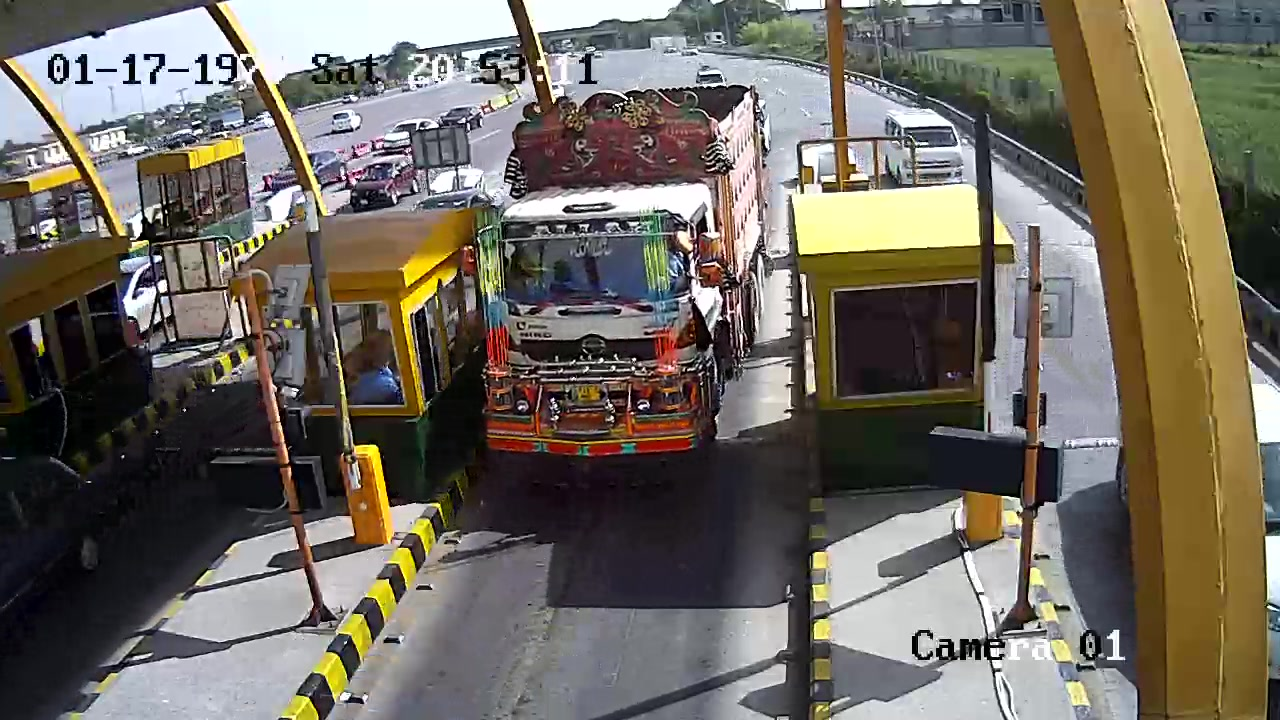F5: (459, 78, 781, 469)
